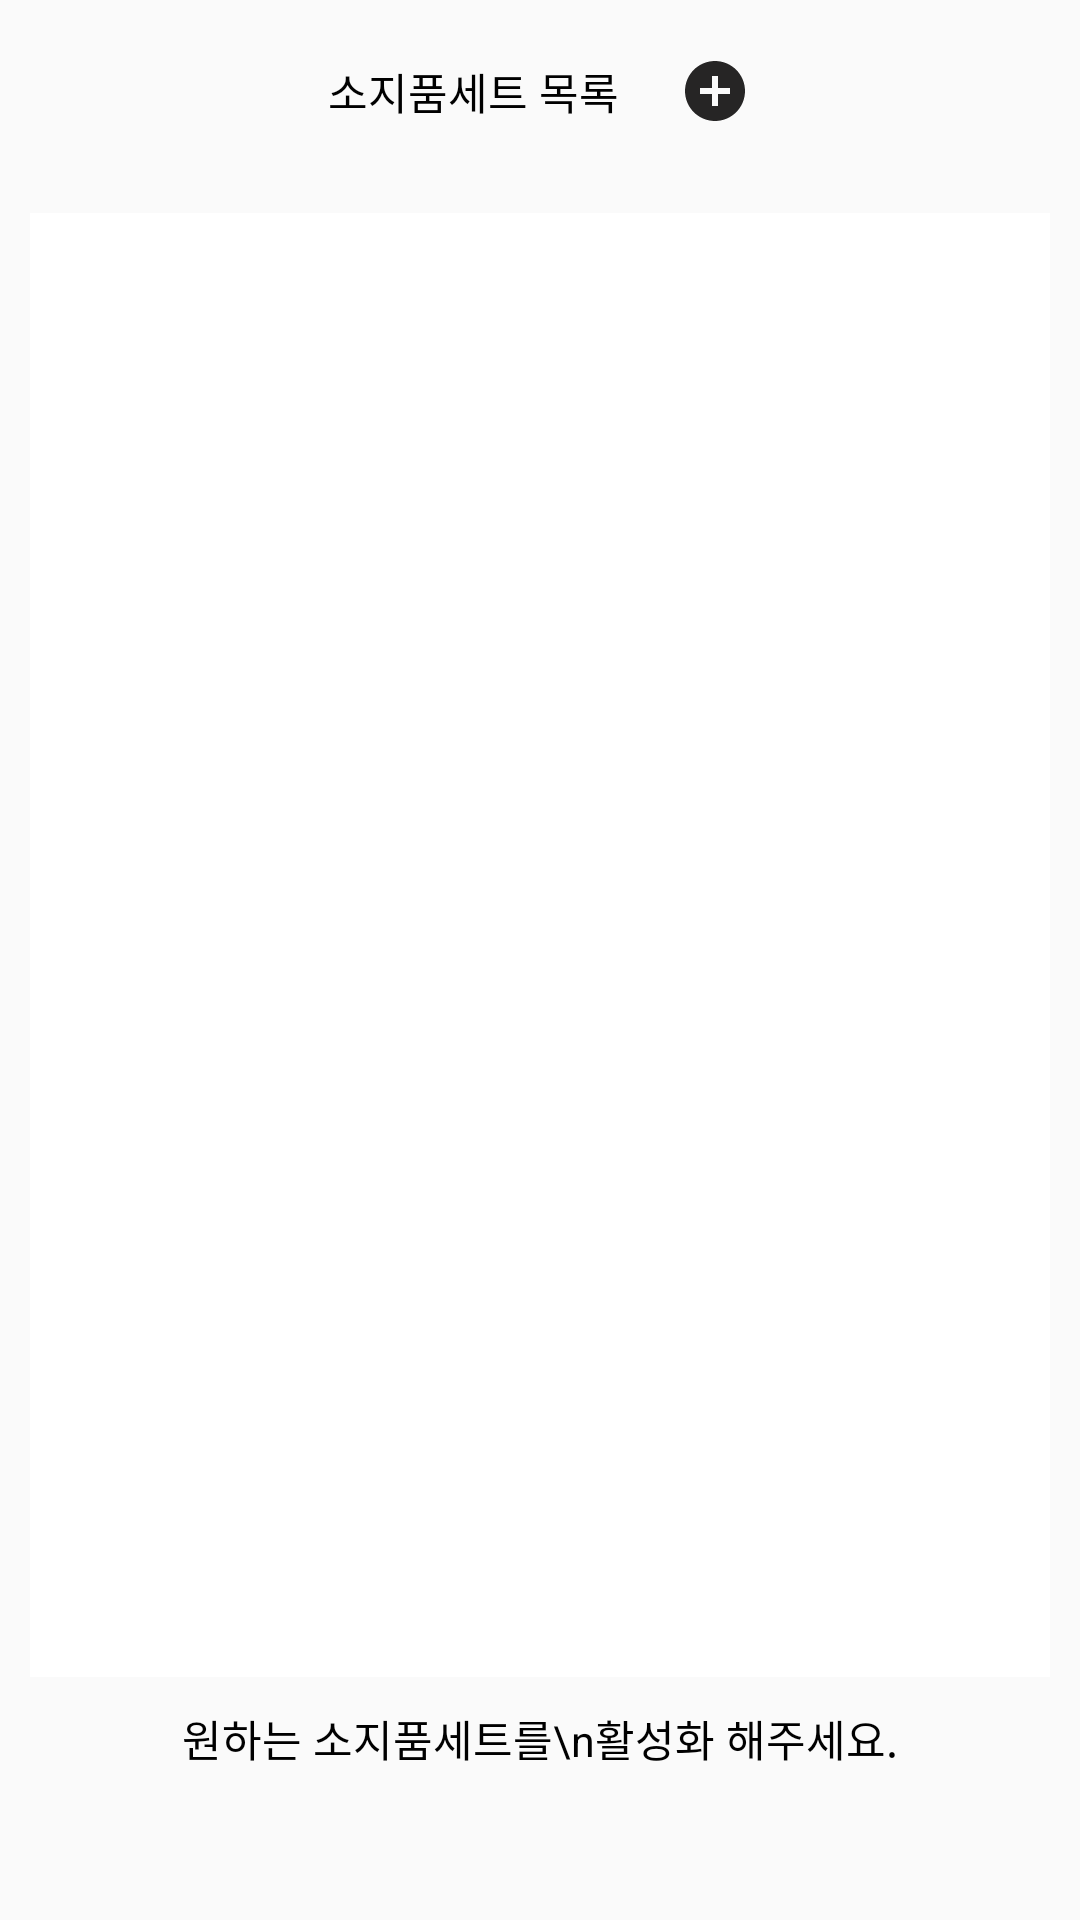

Icons on this 1080 × 1920 Android screen, each with its box as detection(x1, y1, x2, y2):
add circle: detection(685, 61, 745, 121)
